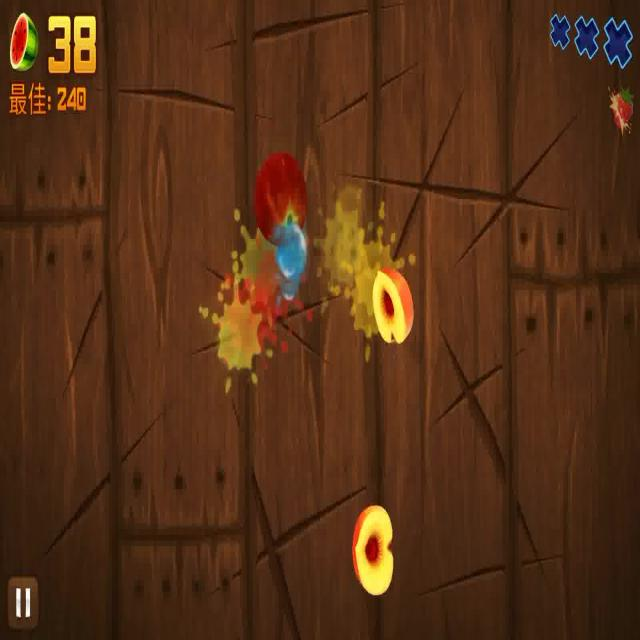fruit: (250, 147, 310, 250), (351, 501, 393, 601), (372, 264, 416, 345)
